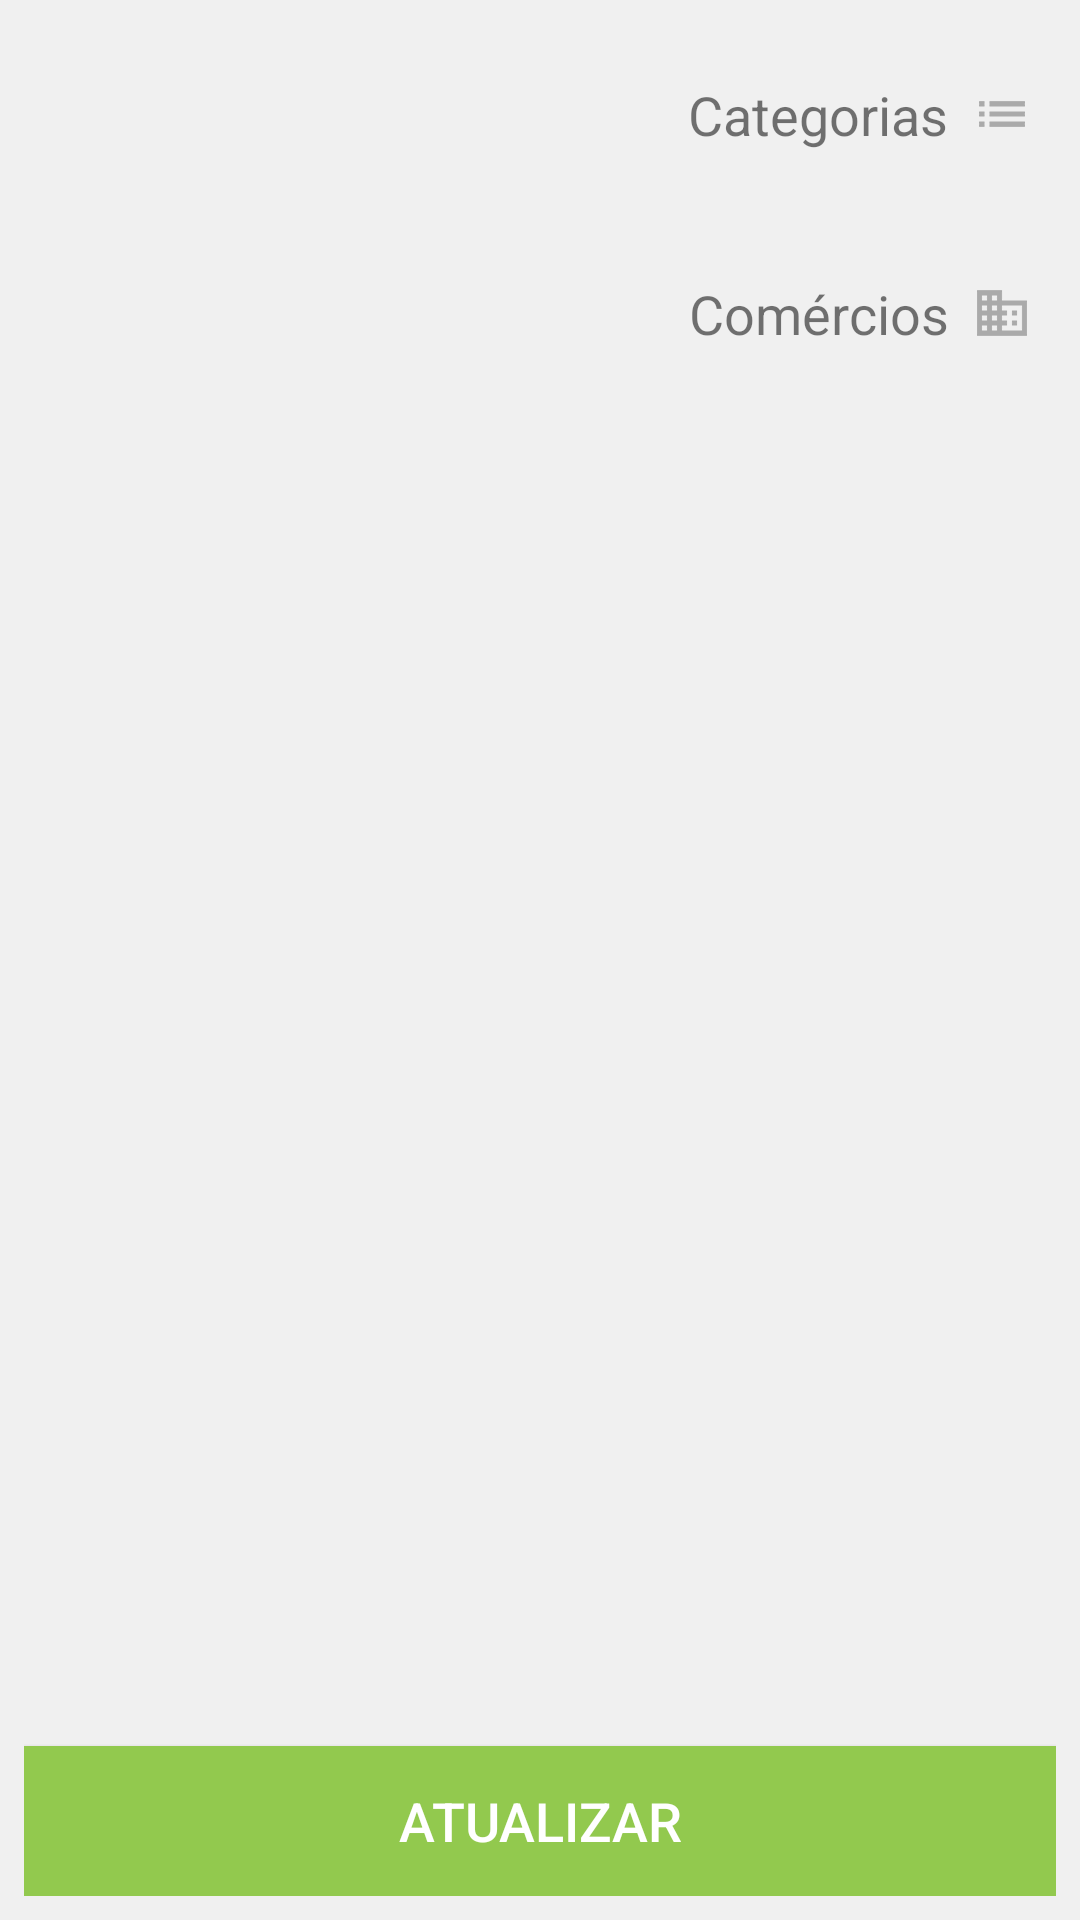

Screen size 1080px x 1920px. Icon name, then its center in pixels as (x=x, y=y):
comercio: (x=1002, y=313)
